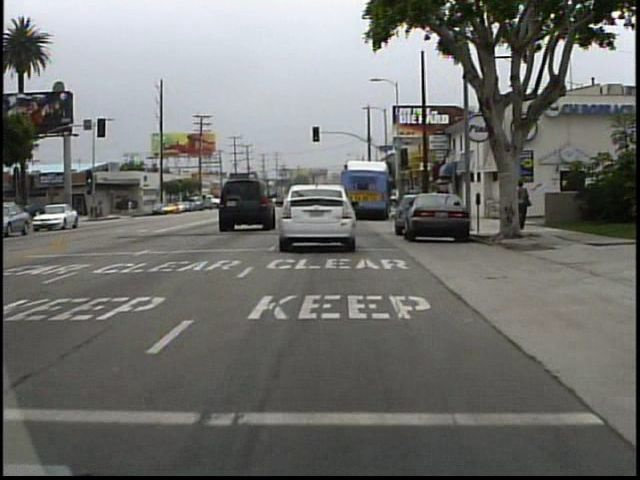person: (508, 177, 527, 230), (516, 177, 532, 232), (126, 196, 137, 218)
